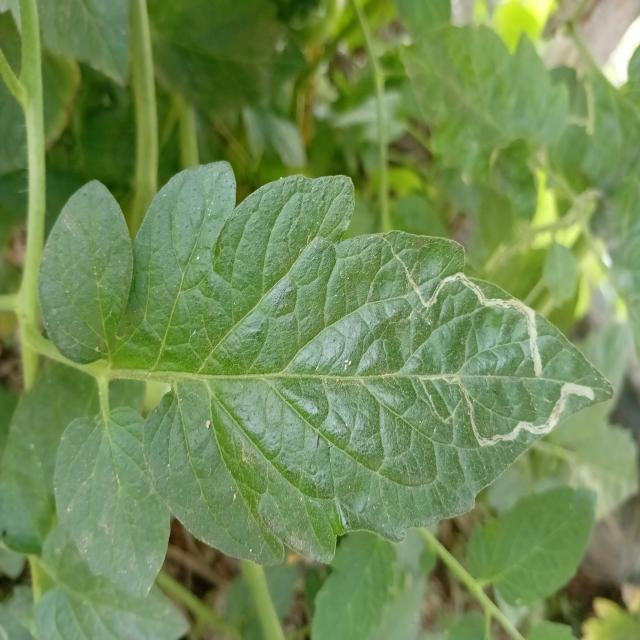Tuta absoluta: (421, 257, 568, 378), (467, 376, 601, 452)
